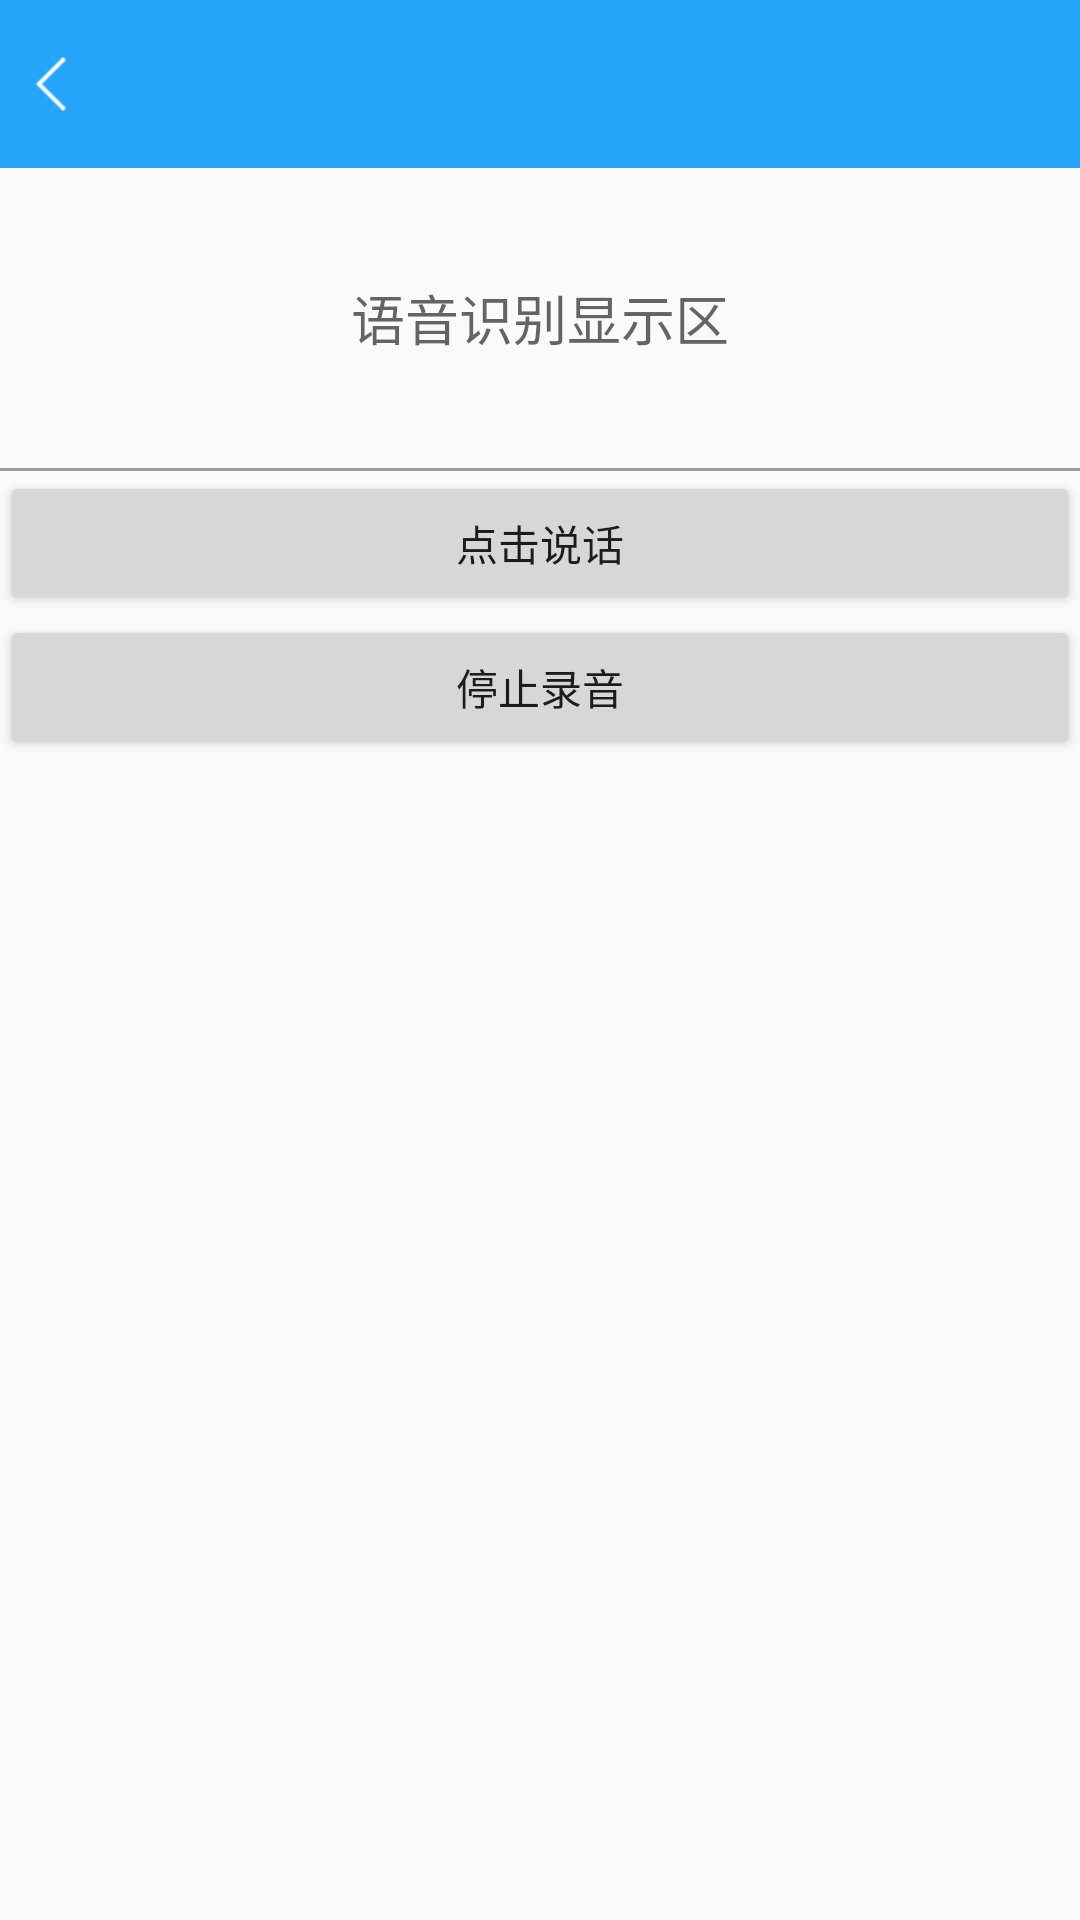

Locate icon controls on the screen. Image size 1080*1920, boxes as (x1, y1, x2, y2).
back: (36, 57, 66, 111)
